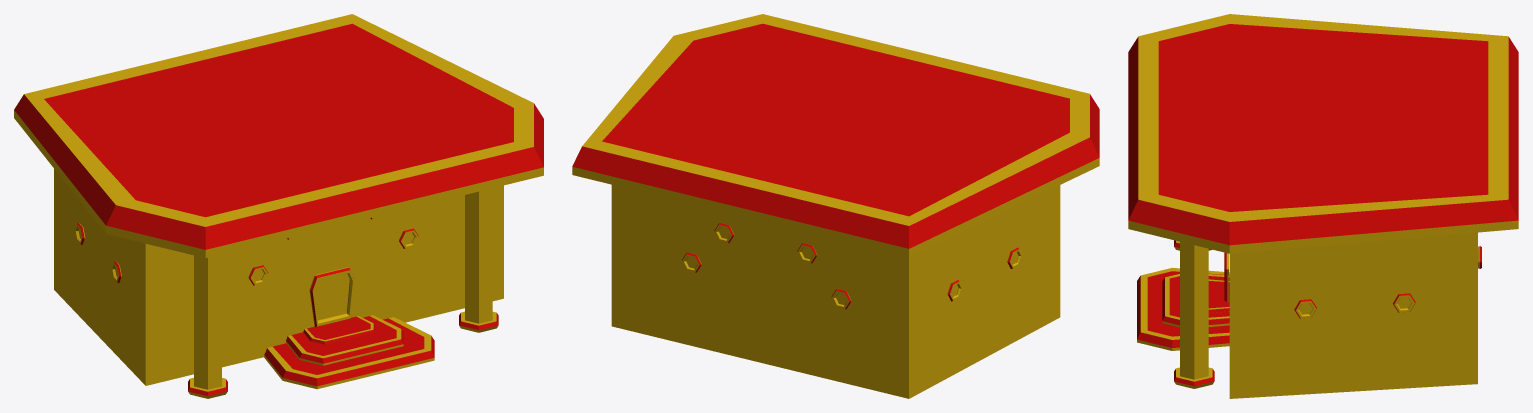
The model's file is Barracks_Player_Red.fbx.
3 renders of one model, left to right at view 1: azimuth 30°, elevation 25°; view 2: azimuth 150°, elevation 25°; view 3: azimuth 270°, elevation 25°, orthographic. The views are drawn at different scales.
Visible parts, largest first — view 1: Barracks_Player_Red; view 2: Barracks_Player_Red; view 3: Barracks_Player_Red.
Boxes of the visible parts, x1,y1,x2,y2 form: Barracks_Player_Red: [14, 14, 543, 398]; Barracks_Player_Red: [572, 14, 1099, 398]; Barracks_Player_Red: [1128, 14, 1518, 398].
Size of the model in its own units: 550 by 229 by 417.
